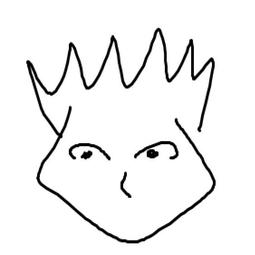eye: (129, 139, 183, 165), (62, 139, 116, 164)
nose: (115, 165, 132, 202)
